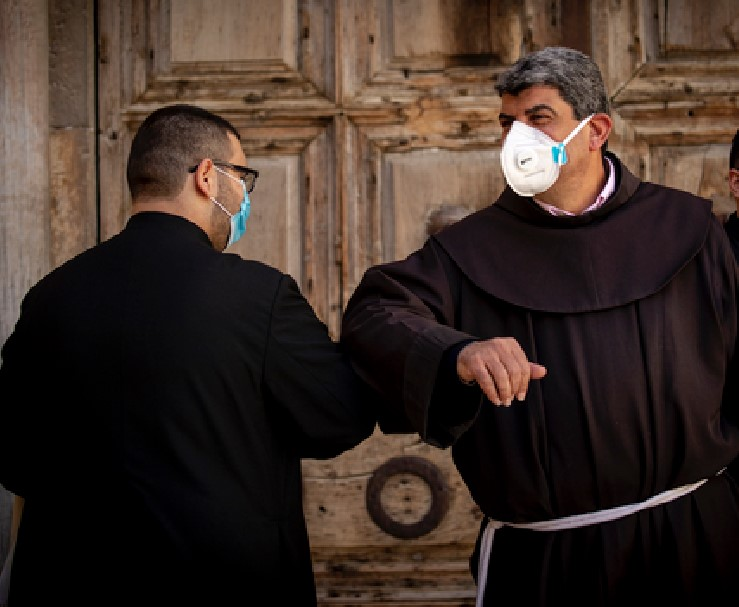face_with_mask: (133, 109, 259, 249), (499, 56, 612, 197)
